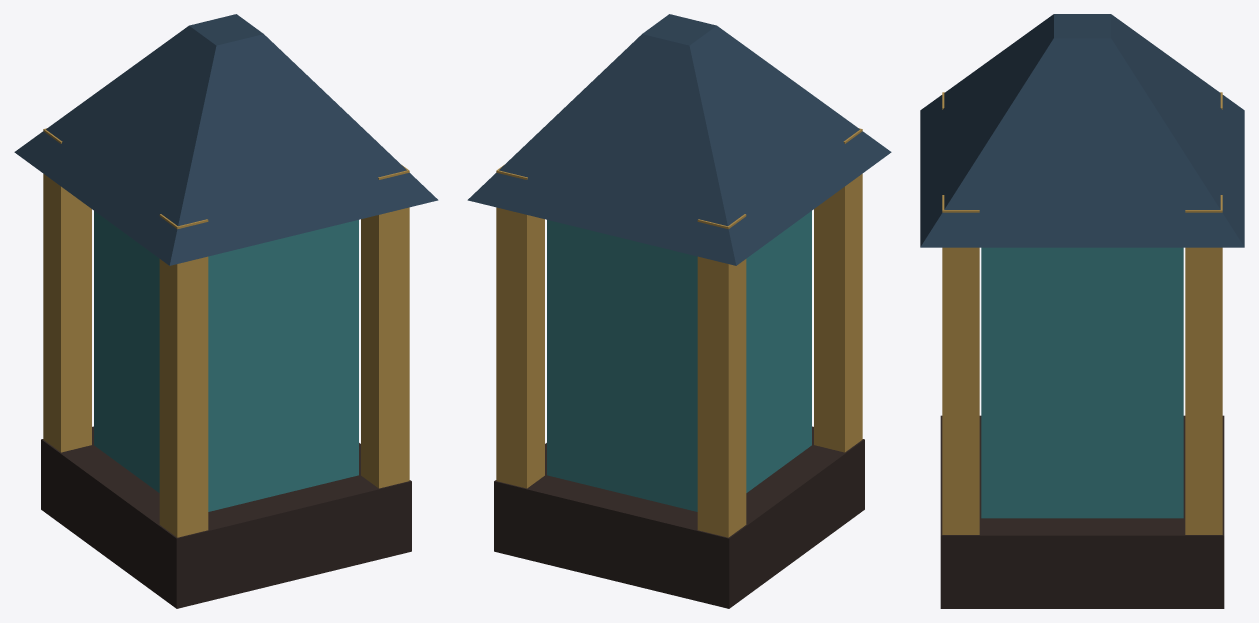
Rendered from PirateCove_HarborLantern_Simple.glb.
3 renders of one model, left to right at view 1: azimuth 30°, elevation 25°; view 2: azimuth 150°, elevation 25°; view 3: azimuth 270°, elevation 25°, orthographic. The views are drawn at different scales.
Visible parts, largest first — view 1: PirateCove_HarborLantern_Simple; view 2: PirateCove_HarborLantern_Simple; view 3: PirateCove_HarborLantern_Simple.
Part boxes in pixels (box(x1,y1,x2,y2)): PirateCove_HarborLantern_Simple: box(14, 14, 438, 608); PirateCove_HarborLantern_Simple: box(467, 14, 891, 608); PirateCove_HarborLantern_Simple: box(920, 14, 1244, 608).
Bounding box in the file's own units: 0.4808 × 0.855 × 0.4808.
